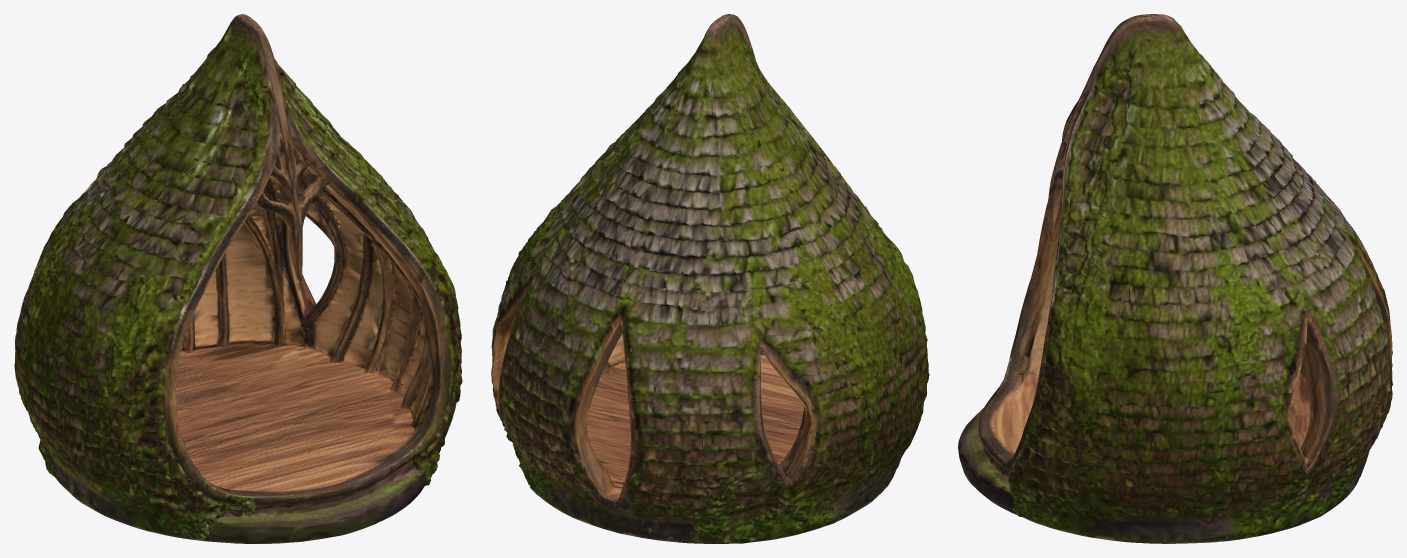
Rendered from Meshy_AI_Mosswood_Teardrop_Hou_1016064039_texture.fbx.
The picture shows the model from 3 angles, left to right: view 1: azimuth 30°, elevation 25°; view 2: azimuth 150°, elevation 25°; view 3: azimuth 270°, elevation 25°; orthographic projection. The views are drawn at different scales.
Visible parts, largest first — view 1: mesh_node; view 2: mesh_node; view 3: mesh_node.
Boxes of the visible parts, left/top/right/bottom form: mesh_node: left=14, top=14, right=462, bottom=543; mesh_node: left=491, top=14, right=929, bottom=543; mesh_node: left=958, top=14, right=1392, bottom=543.
Bounding box in the file's own units: 171 × 190 × 166.
1 material, 1 textured.
